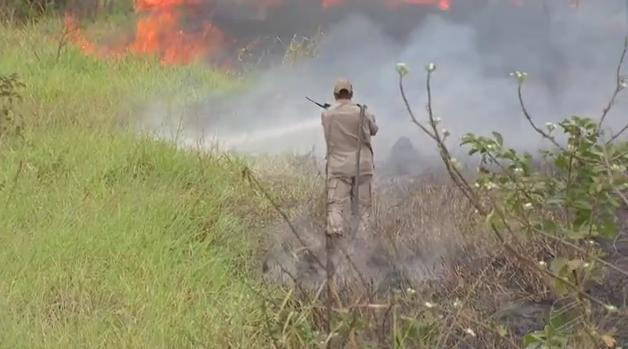fire: (139, 0, 195, 53)
smoke: (325, 27, 462, 80), (203, 101, 308, 143), (449, 96, 511, 130)
